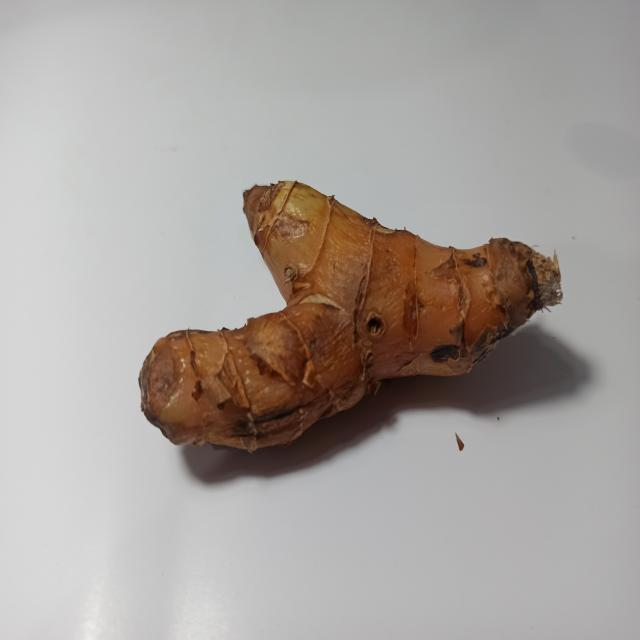ginger: (158, 168, 532, 441)
